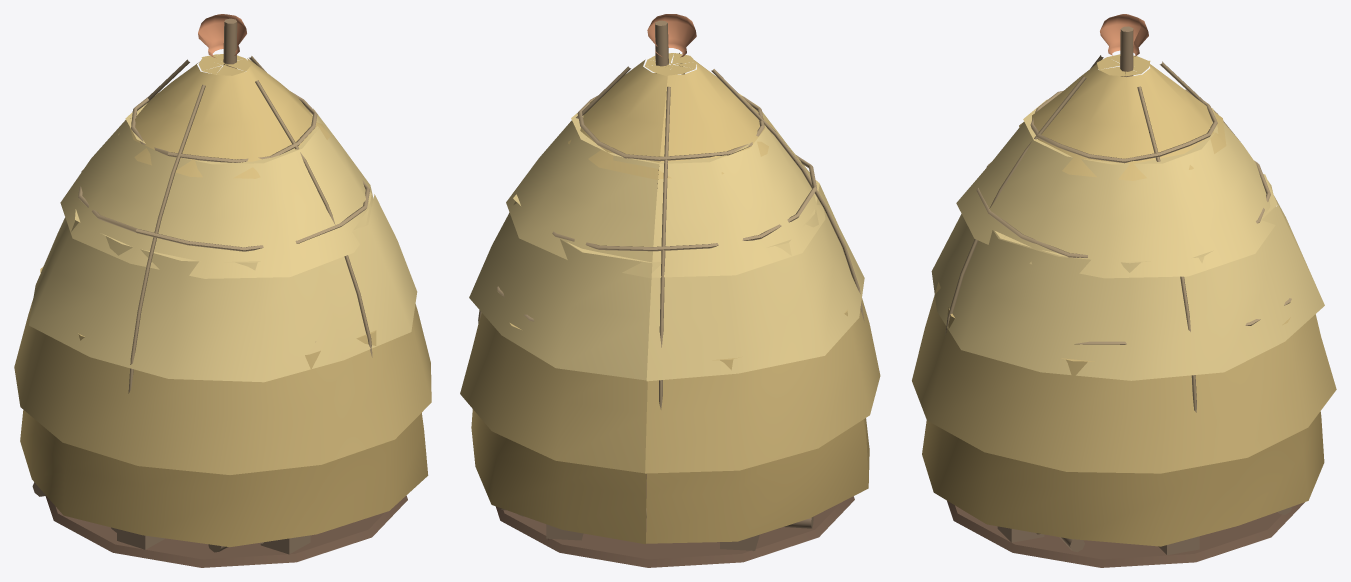
Rendered from south_indian_village_haystack.glb.
3 views of the same model, side by side, from view 1: azimuth 30°, elevation 25°; view 2: azimuth 150°, elevation 25°; view 3: azimuth 270°, elevation 25° (orthographic).
Parts seen in each view (by area): view 1: Haystack_Thatched_Straw_Body, Haystack_Subgrade_Anchor_Plug, Coir_Binding_Rope_Harness, Haystack_Timber_Stilt_Bed, Inverted_Clay_Weather_Pot, Modular_Village_Haystack; view 2: Haystack_Thatched_Straw_Body, Haystack_Subgrade_Anchor_Plug, Coir_Binding_Rope_Harness, Inverted_Clay_Weather_Pot, Haystack_Timber_Stilt_Bed, Modular_Village_Haystack; view 3: Haystack_Thatched_Straw_Body, Haystack_Subgrade_Anchor_Plug, Coir_Binding_Rope_Harness, Inverted_Clay_Weather_Pot, Haystack_Timber_Stilt_Bed, Modular_Village_Haystack.
Boxes of the visible parts, box(x1,y1,x2,y2) form: Haystack_Thatched_Straw_Body: box(14, 54, 431, 547); Haystack_Subgrade_Anchor_Plug: box(45, 495, 407, 567); Coir_Binding_Rope_Harness: box(78, 56, 372, 393); Haystack_Timber_Stilt_Bed: box(32, 482, 310, 554); Inverted_Clay_Weather_Pot: box(198, 14, 246, 57); Modular_Village_Haystack: box(223, 18, 237, 68); Haystack_Thatched_Straw_Body: box(460, 53, 880, 544); Haystack_Subgrade_Anchor_Plug: box(495, 474, 854, 567); Coir_Binding_Rope_Harness: box(478, 53, 864, 409); Inverted_Clay_Weather_Pot: box(647, 14, 696, 57); Haystack_Timber_Stilt_Bed: box(501, 508, 813, 550); Modular_Village_Haystack: box(655, 20, 668, 188); Haystack_Thatched_Straw_Body: box(912, 54, 1336, 546); Haystack_Subgrade_Anchor_Plug: box(947, 501, 1304, 567); Coir_Binding_Rope_Harness: box(944, 55, 1291, 412); Inverted_Clay_Weather_Pot: box(1100, 14, 1148, 56); Haystack_Timber_Stilt_Bed: box(997, 507, 1291, 555); Modular_Village_Haystack: box(1120, 26, 1133, 76).
Bounding box in the file's own units: 2.82 × 3.53 × 2.88.
